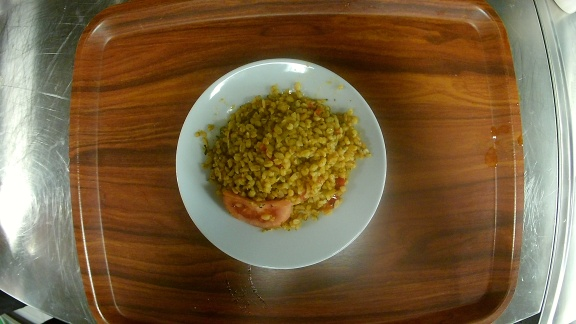bulgur: (174, 58, 388, 271)
